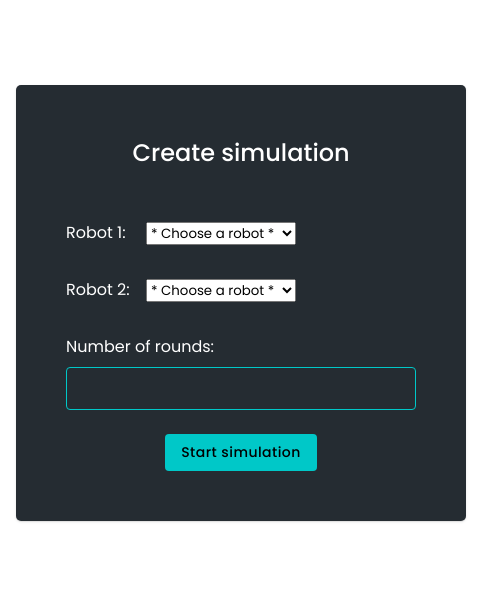
Sim Creation test › 5. New sim with letters in number of rounds
Select "Soyunrobot" in the dropdown with test id "nameRobot1": (221, 234) [146,222,296,245]
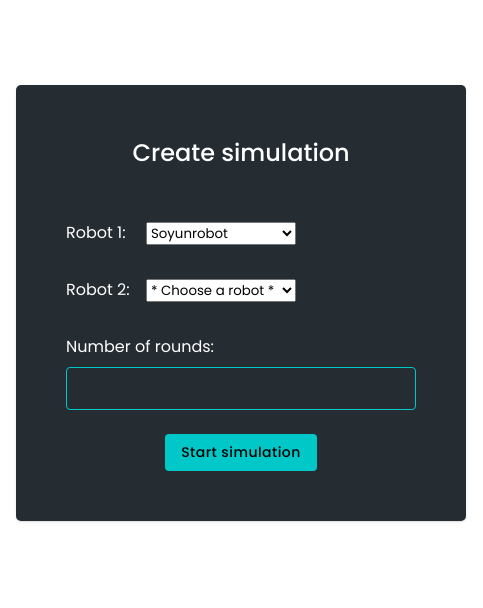
Select "Soyunrobot" in the dropdown with test id "nameRobot2": (221, 290) [146,279,296,302]
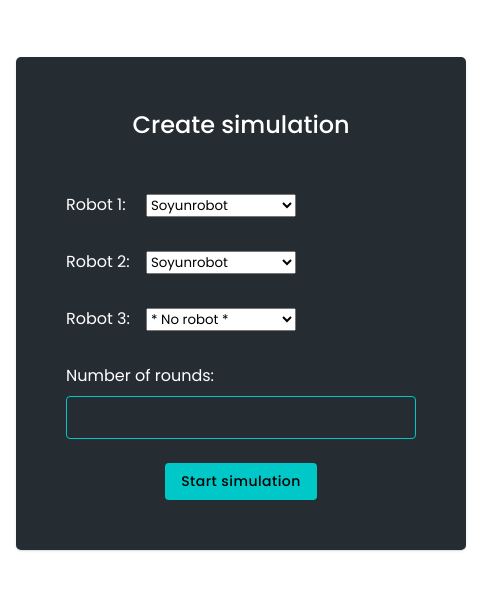
Select "Soyotrorobot" in the dropdown with test id "nameRobot3": (221, 319) [146,308,296,330]
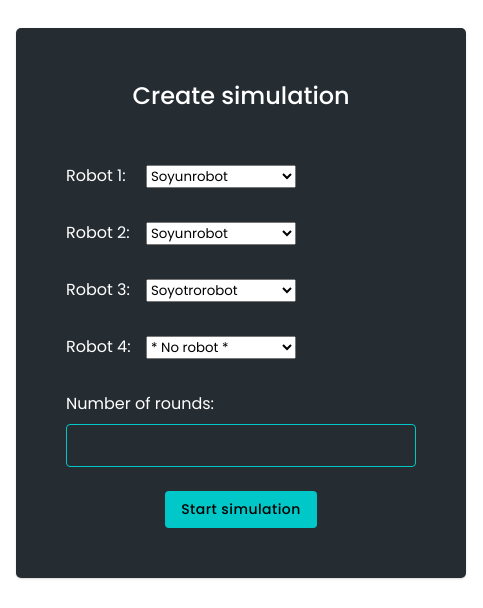
Select "Soyunrobot" in the dropdown with test id "nameRobot4": (221, 348) [146,336,296,359]
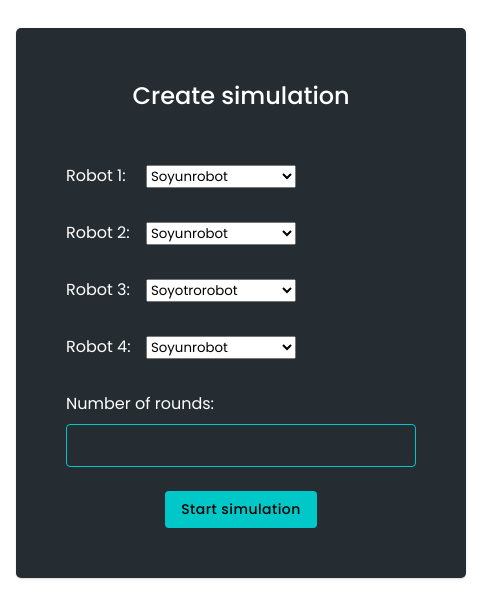
In the field with test id "nRounds": (241, 446) [66,424,416,467], type "5a"
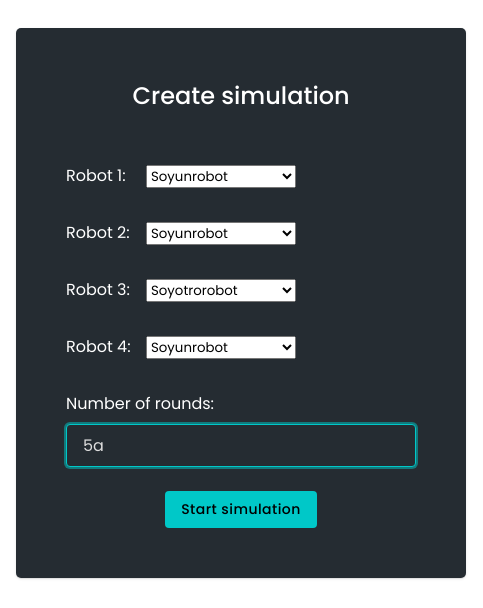
Click the button with test id "submit": click(241, 510) [165,491,317,528]
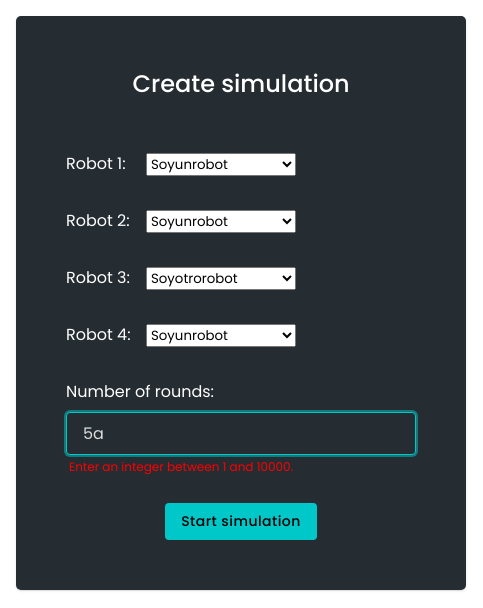
Check: the text with test id "valNRounds" reads "Enter an integer between 1 and 10000.", box [69,458,293,475]
